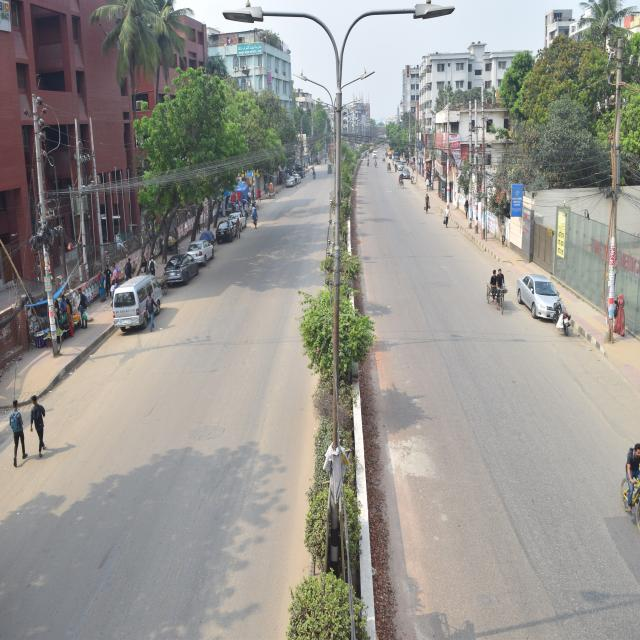car: (516, 266, 566, 324), (161, 252, 201, 289), (183, 235, 218, 273), (226, 205, 248, 235), (214, 213, 233, 242)
microbus: (105, 256, 168, 342)
motorbike: (545, 295, 574, 336)
